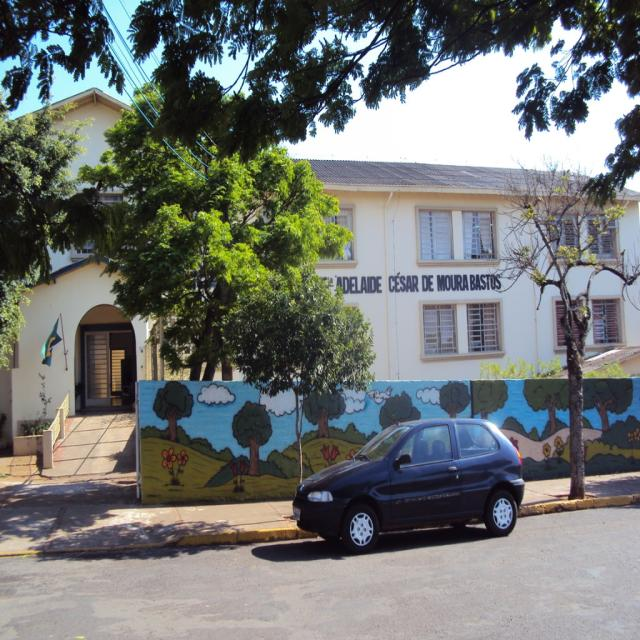car: (291, 413, 525, 556)
